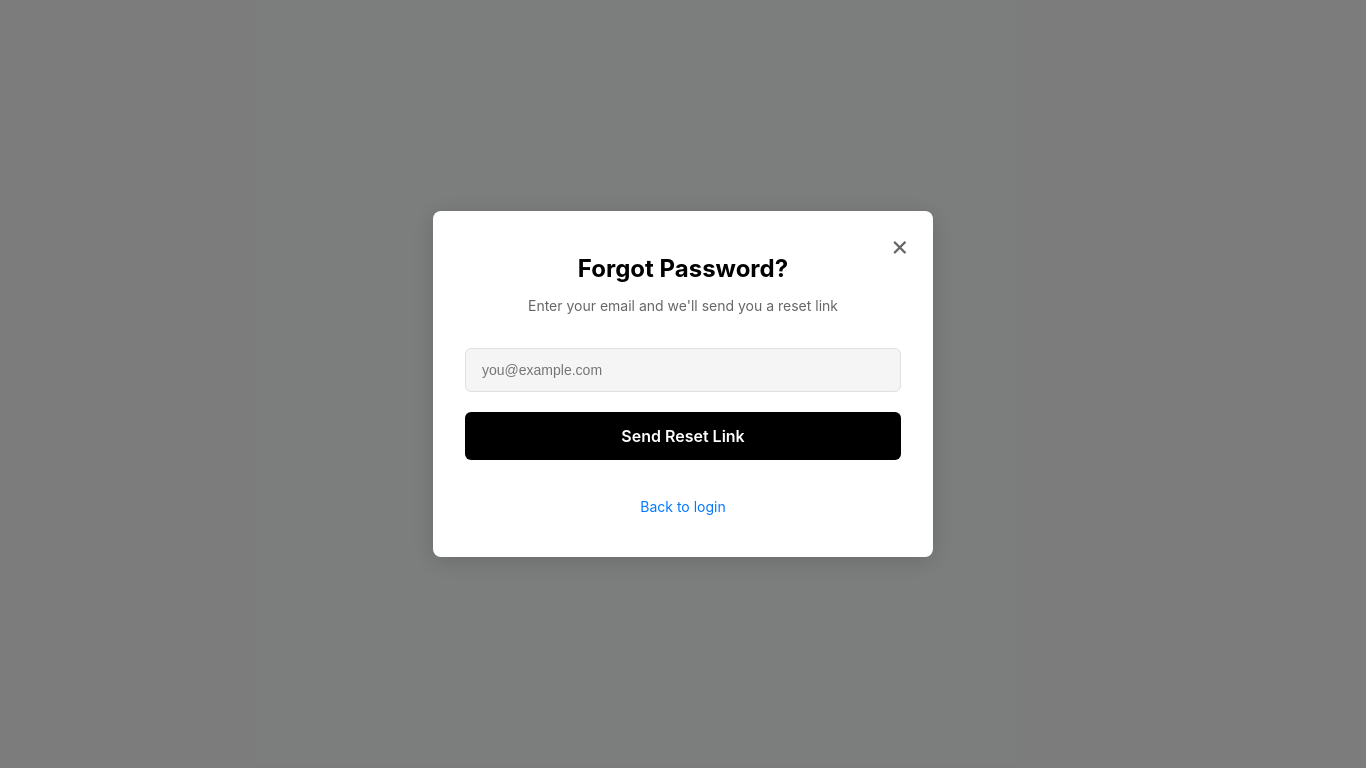
Scenario: Authentication Components › ForgotPasswordModal › shows success state after submission
Type "test@example.com" into the field with placeholder "you@example.com" at x=683, y=370, box [465,348,901,392]
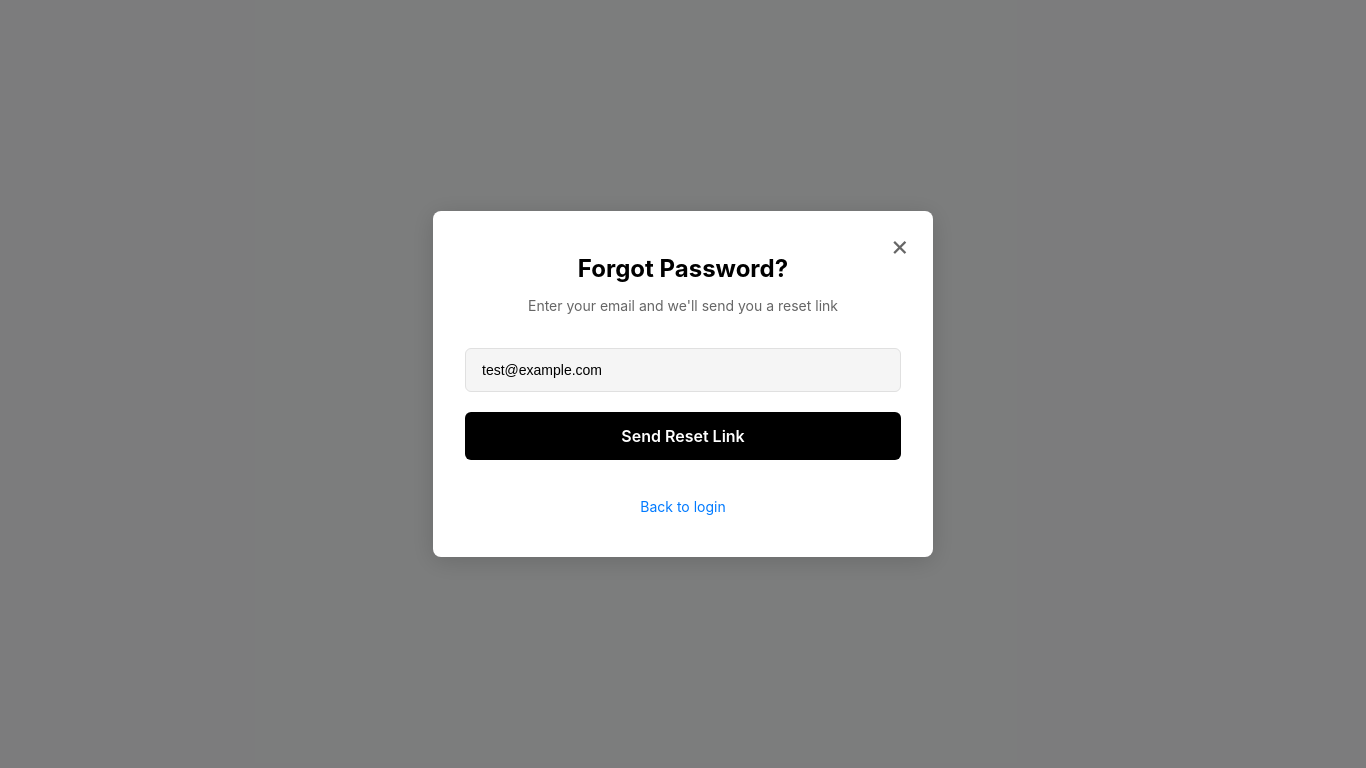
Click the button "Send Reset Link" at x=683, y=436, box [465,412,901,460]
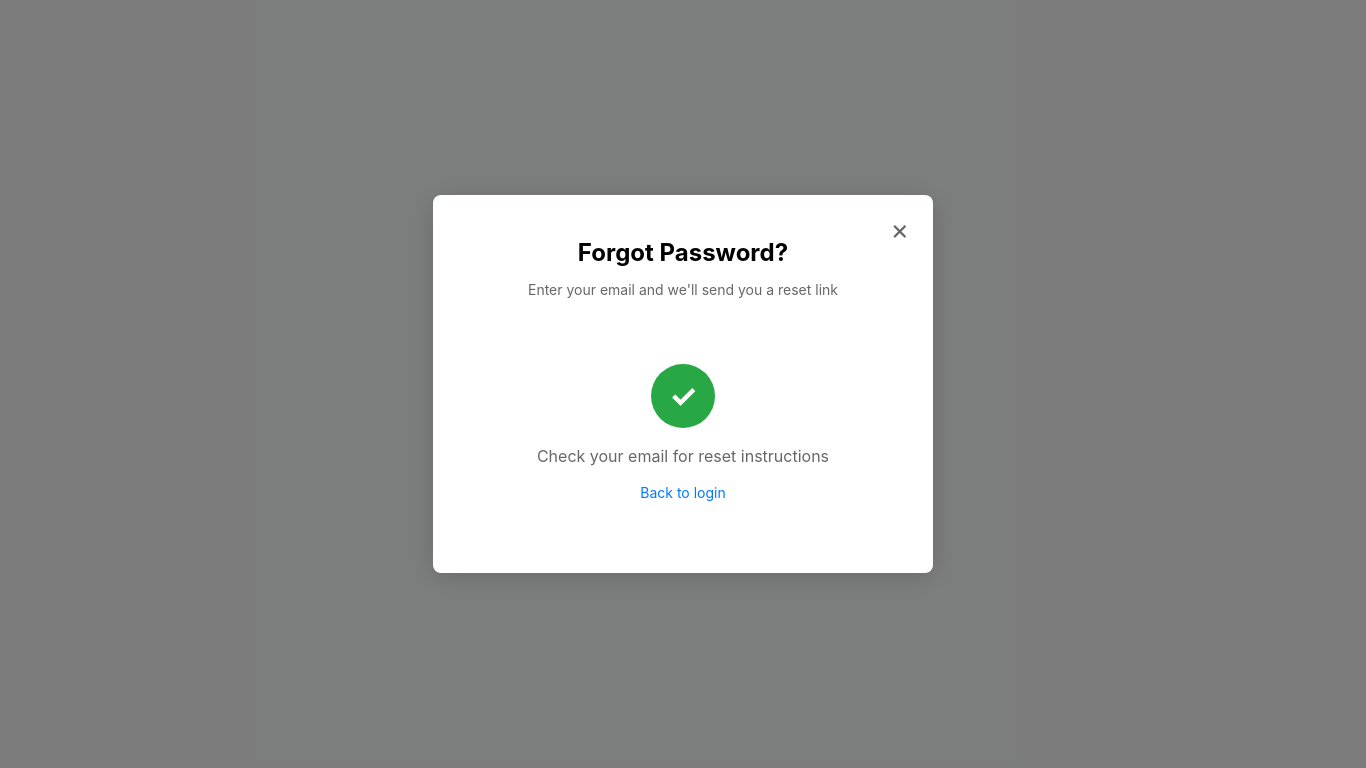
Now the text "Check your email for reset instructions" is shown, box [537,444,829,468]
